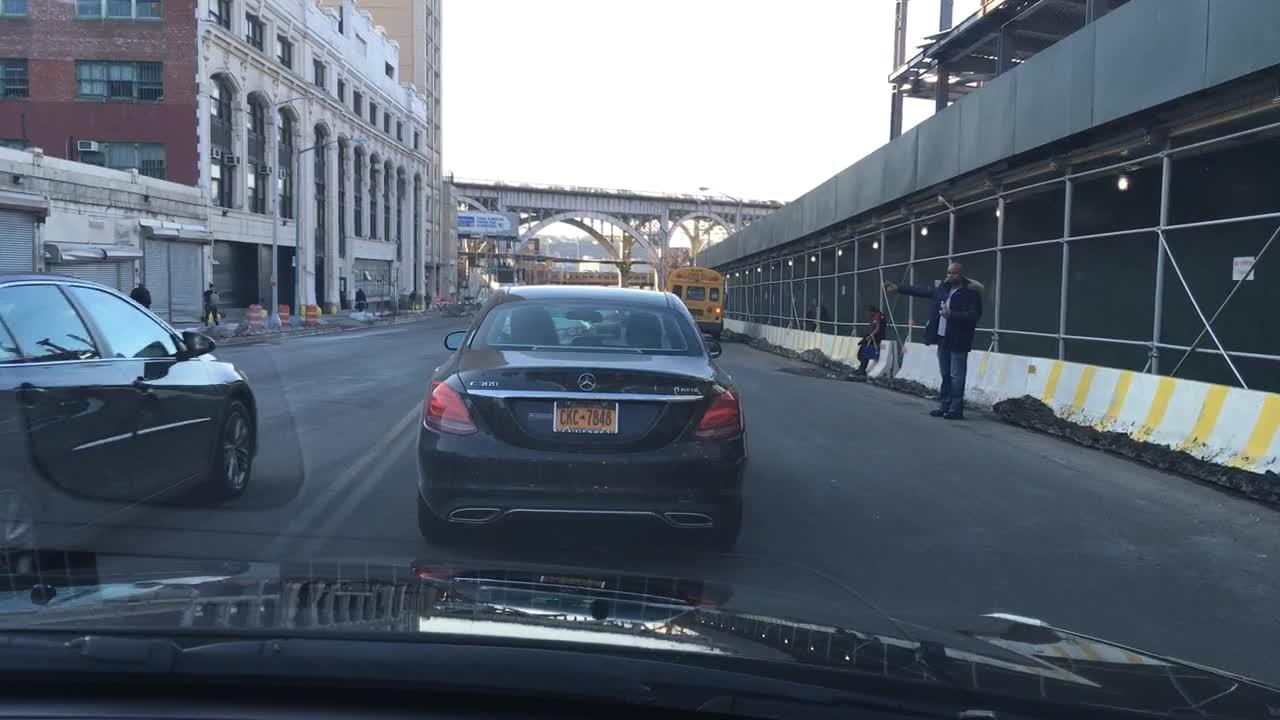Mercedes: (572, 366, 602, 394)
